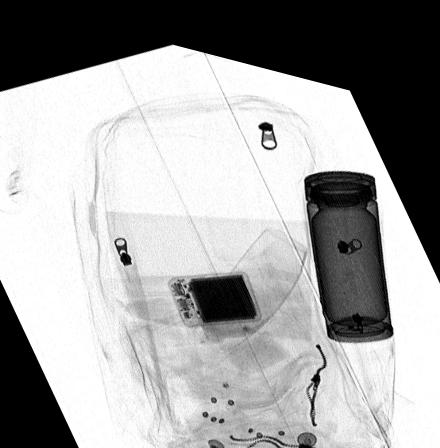Powerbank: (166, 258, 262, 318)
